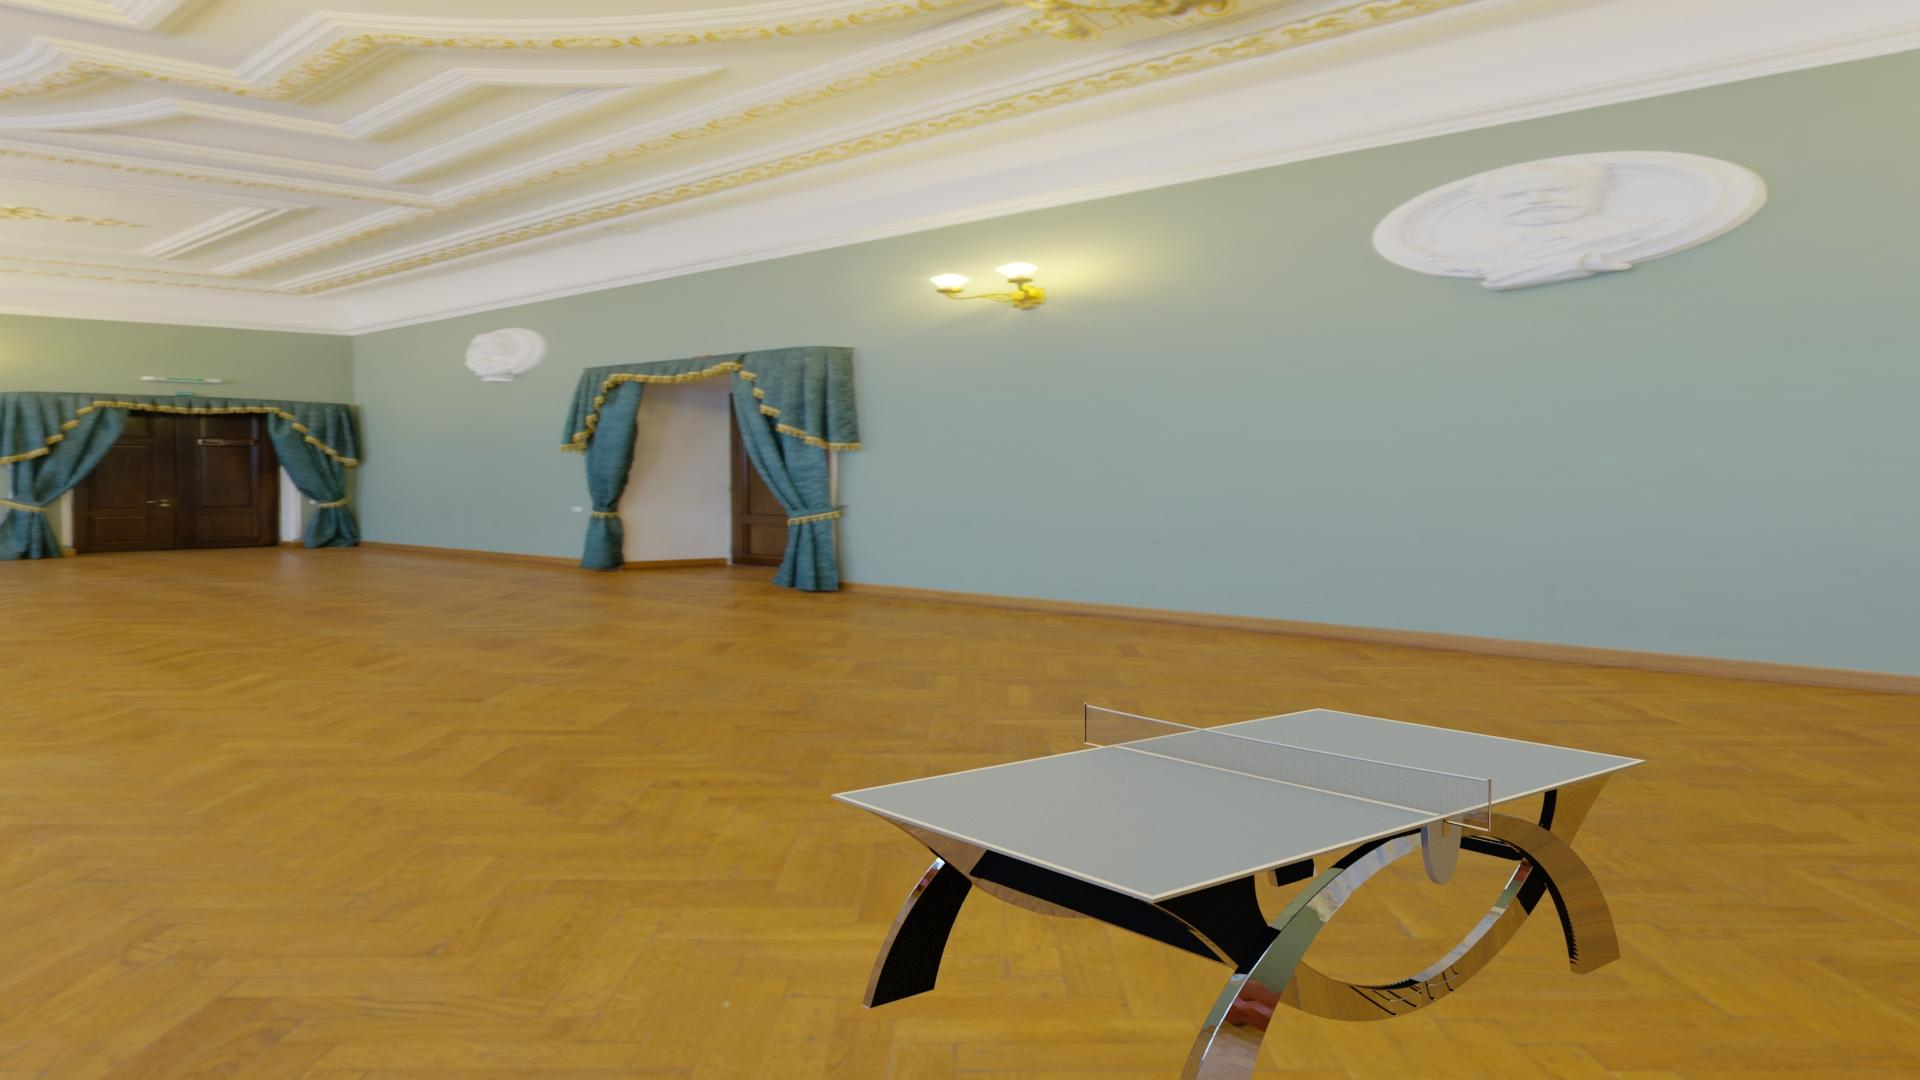table: (839, 709, 1638, 897)
